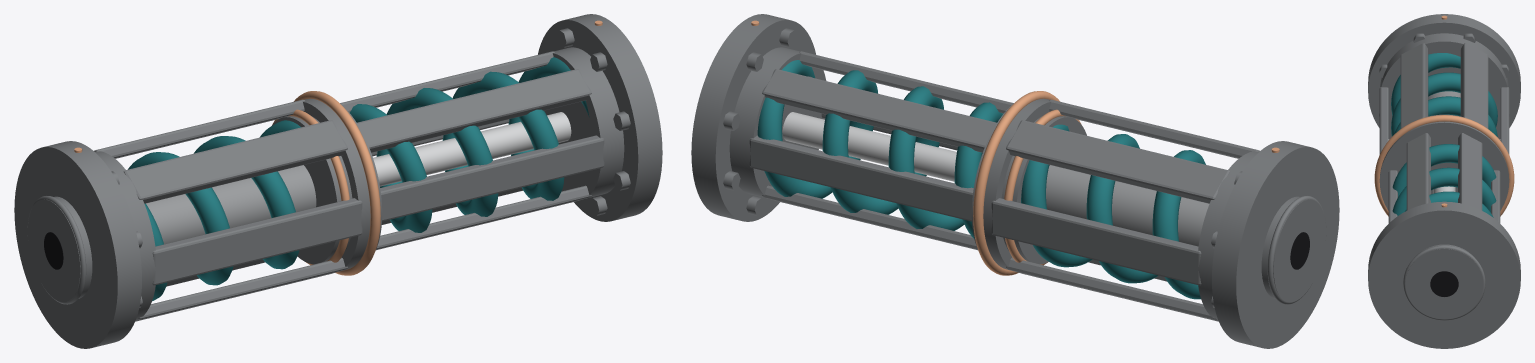
File: offroad_suspension_1.glb
The picture shows the model from 3 angles, left to right: view 1: azimuth 30°, elevation 25°; view 2: azimuth 150°, elevation 25°; view 3: azimuth 270°, elevation 25°; orthographic projection. The views are drawn at different scales.
Visible parts, largest first — view 1: mountFlex, Stator, mount; view 2: mountFlex, Stator, mount; view 3: mountFlex, mount, Stator.
Boxes of the visible parts, x1,y1,x2,y2 form: mountFlex: (94,47,624,321); Stator: (14,141,142,348); mount: (538,14,662,221); mountFlex: (729,47,1259,321); Stator: (1211,141,1339,348); mount: (691,14,815,221); mountFlex: (1374,33,1514,223); mount: (1368,201,1520,348); Stator: (1368,14,1520,139).
Bounding box in the file's own units: 0.751 × 0.2385 × 0.236.
